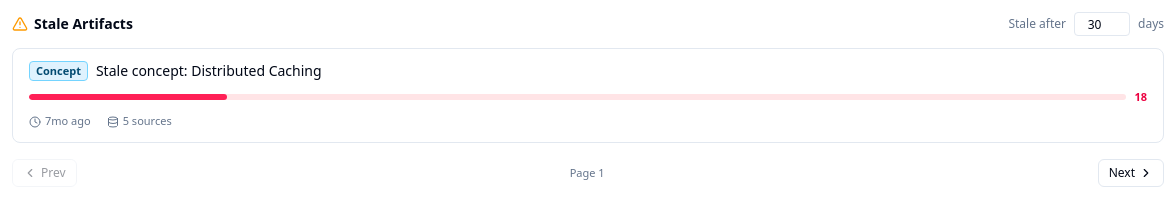
it: StaleArtifactsPanel (P7-01) › Pagination › clicking Next fetches next page with returned cursor
The width and height of the screenshot is (1176, 204).
Expected: the link "Stale concept: Distributed Caching" is shown, [96, 61, 322, 80]
Note: Click Next
Click the button with aria-label "next page" at [1131, 173], box [1098, 159, 1164, 187]
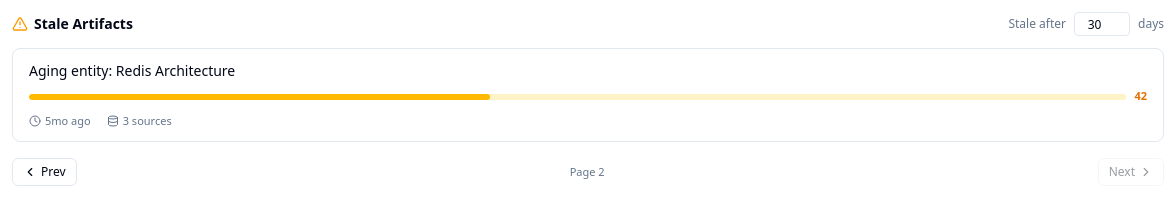
Expected: the link "Aging entity: Redis Architecture" is shown, [29, 61, 235, 80]
